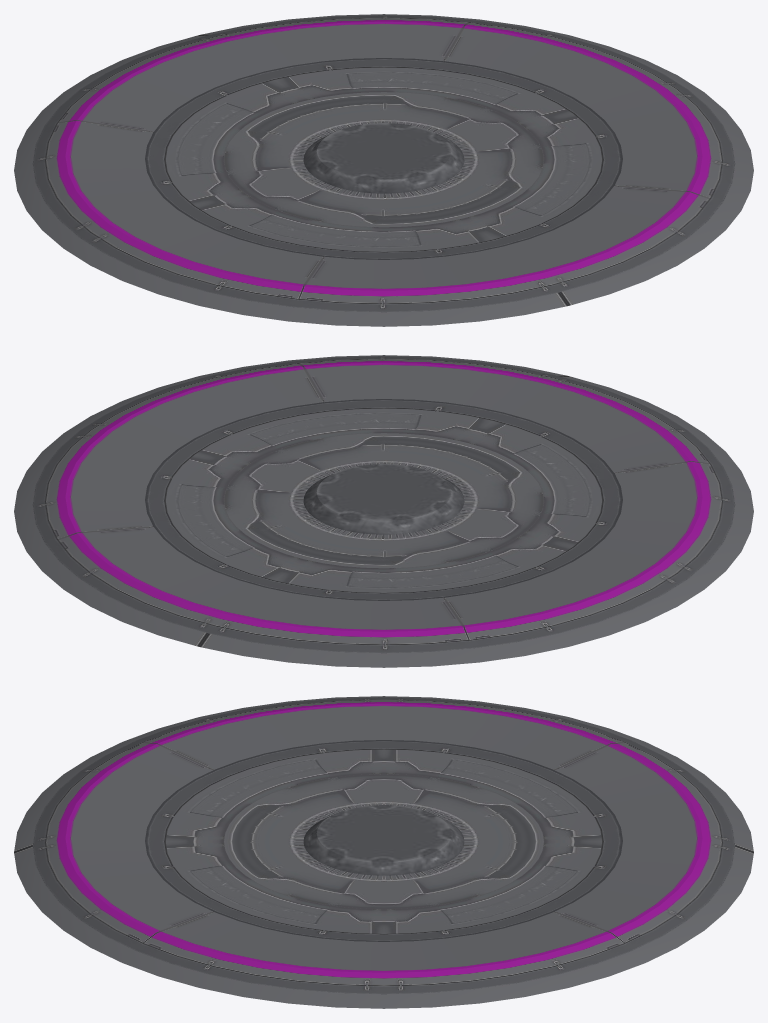
File: Platform_Round1.gltf
3 renders of one model, top to bottom at view 1: azimuth 30°, elevation 25°; view 2: azimuth 150°, elevation 25°; view 3: azimuth 270°, elevation 25°, orthographic.
Parts seen in each view (by area): view 1: Platform_Round1; view 2: Platform_Round1; view 3: Platform_Round1.
Part boxes in pixels (x1,y1,x2,y2): Platform_Round1: [14, 14, 753, 326]; Platform_Round1: [14, 355, 753, 667]; Platform_Round1: [14, 696, 753, 1008].
Size of the model in its own units: 5.99 by 0.1702 by 5.99.
2 materials, 2 textured.
